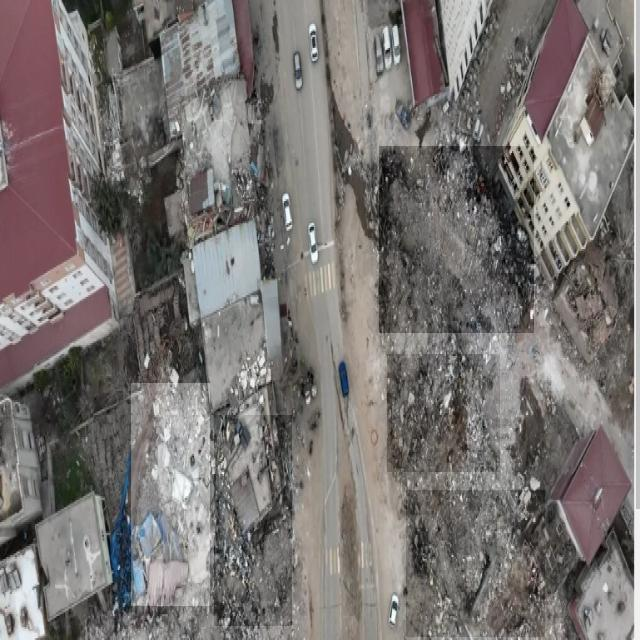Rubble: (379, 146, 534, 333), (406, 490, 545, 637), (131, 383, 210, 606), (214, 415, 292, 626), (387, 354, 500, 472), (188, 153, 270, 224)
